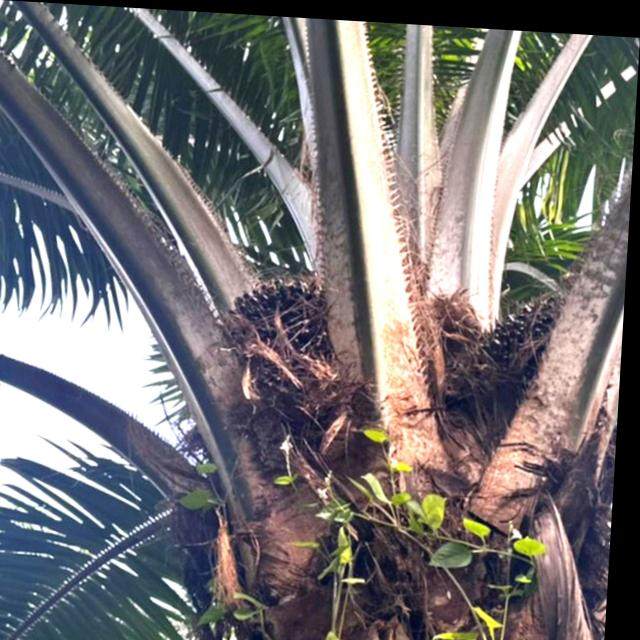almost: (217, 265, 350, 425), (461, 269, 586, 427)
